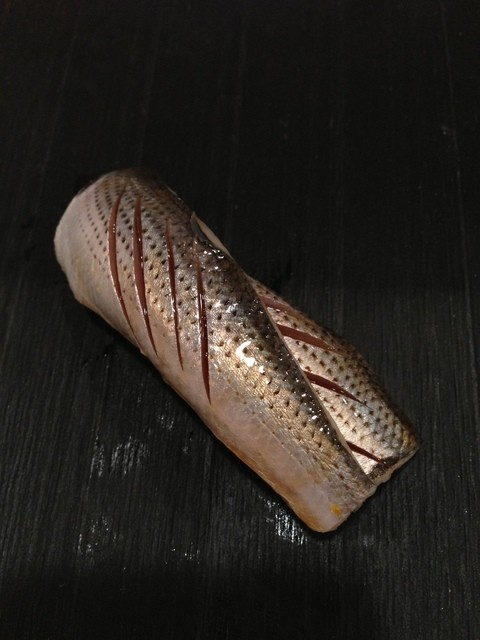spotted-shad: (52, 157, 425, 541)
